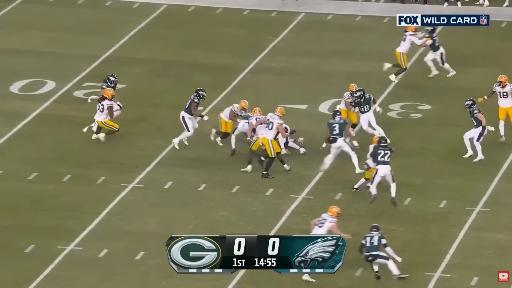Helmet: (496, 75, 509, 88), (354, 88, 366, 101), (195, 88, 208, 99), (329, 207, 342, 218), (464, 98, 475, 111), (107, 74, 117, 87), (379, 136, 389, 149), (405, 25, 421, 33), (104, 89, 115, 100), (240, 99, 248, 113), (251, 107, 262, 117), (348, 83, 358, 94), (274, 107, 285, 117), (332, 110, 342, 120), (369, 224, 380, 232), (426, 26, 436, 34), (372, 136, 379, 144)
Jersey: (396, 32, 422, 53), (262, 114, 283, 139), (311, 214, 337, 234), (362, 232, 386, 253), (371, 146, 392, 166), (95, 100, 115, 121), (493, 84, 511, 107), (354, 94, 373, 114), (328, 119, 348, 138), (184, 95, 200, 115), (220, 106, 239, 121), (425, 34, 440, 52), (339, 92, 353, 109), (470, 108, 482, 127), (367, 144, 375, 167), (249, 115, 263, 125), (102, 83, 117, 90), (241, 115, 251, 121)
Player: (242, 107, 293, 178), (320, 110, 363, 173), (359, 224, 408, 279), (478, 75, 511, 141), (383, 27, 422, 81), (173, 88, 208, 148), (370, 136, 397, 206), (464, 99, 494, 161), (421, 27, 455, 77), (211, 100, 248, 145), (231, 108, 263, 155), (352, 136, 378, 191), (354, 89, 385, 135), (93, 88, 119, 141), (311, 206, 351, 238), (337, 84, 358, 134), (337, 84, 357, 135), (89, 74, 117, 101), (278, 135, 305, 154), (101, 74, 118, 94), (110, 101, 123, 120)
